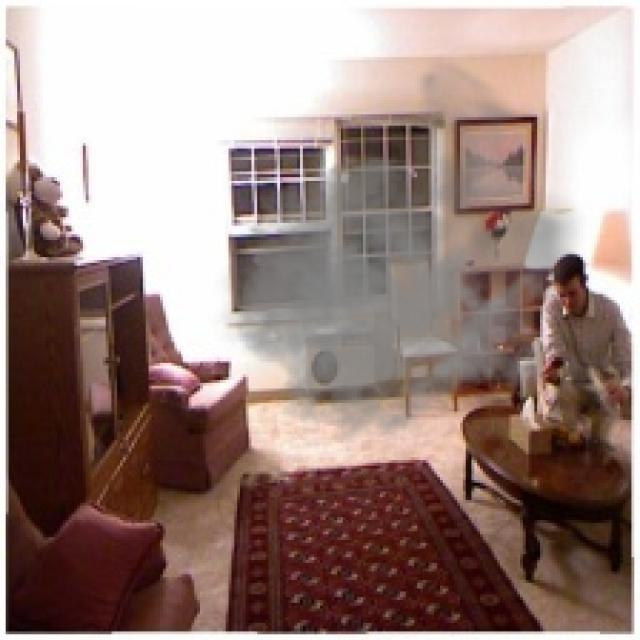Smoke: (208, 54, 588, 446)
